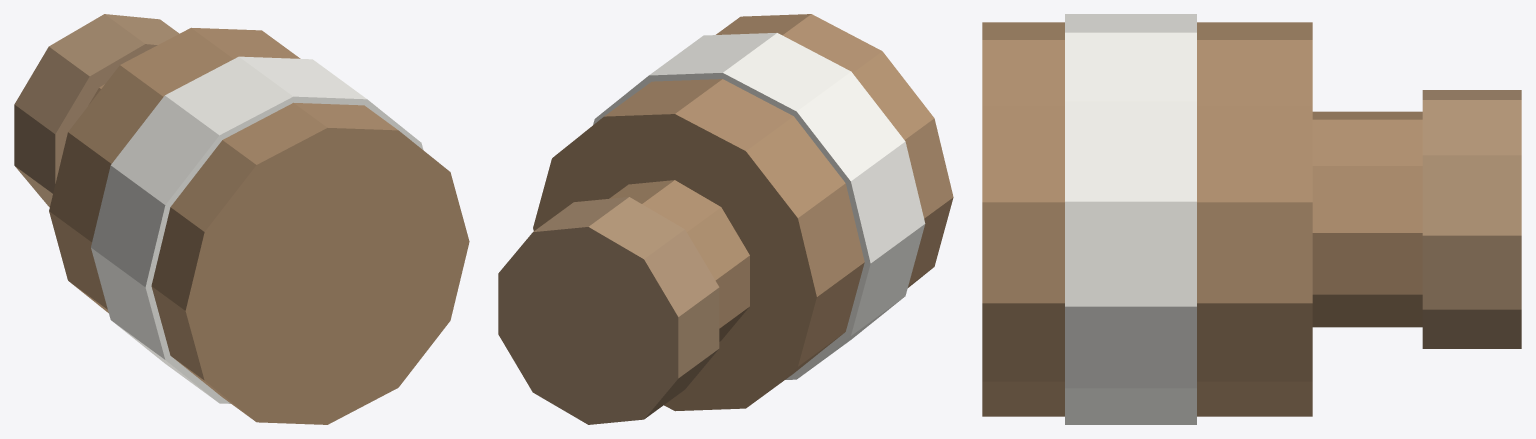
The model's file is brown_dye_held.gltf.
3 renders of one model, left to right at view 1: azimuth 30°, elevation 25°; view 2: azimuth 150°, elevation 25°; view 3: azimuth 270°, elevation 25°, orthographic. The views are drawn at different scales.
Parts seen in each view (by area): view 1: colors_brown_dye_held; view 2: colors_brown_dye_held; view 3: colors_brown_dye_held.
Boxes of the visible parts, x1,y1,x2,y2 form: colors_brown_dye_held: (14, 14, 469, 424); colors_brown_dye_held: (498, 14, 953, 424); colors_brown_dye_held: (982, 14, 1521, 424).
Bounding box in the file's own units: 0.075 × 0.075 × 0.098.
